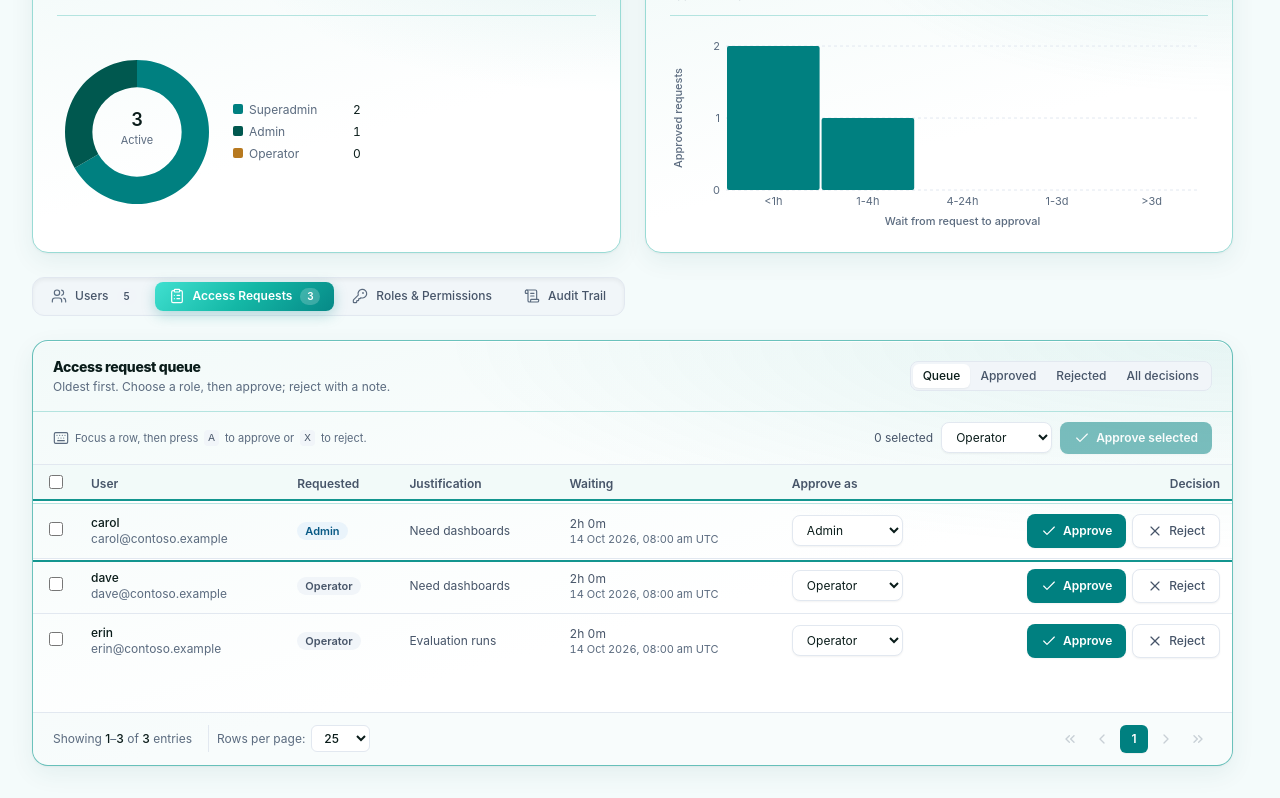
Test case: Access Requests tab › keyboard: `a` approves the focused row with its role, `x` opens reject with a required note
(page scrolled)
Press a in the row with test id "request-row-r-1", box [33, 503, 1232, 558]
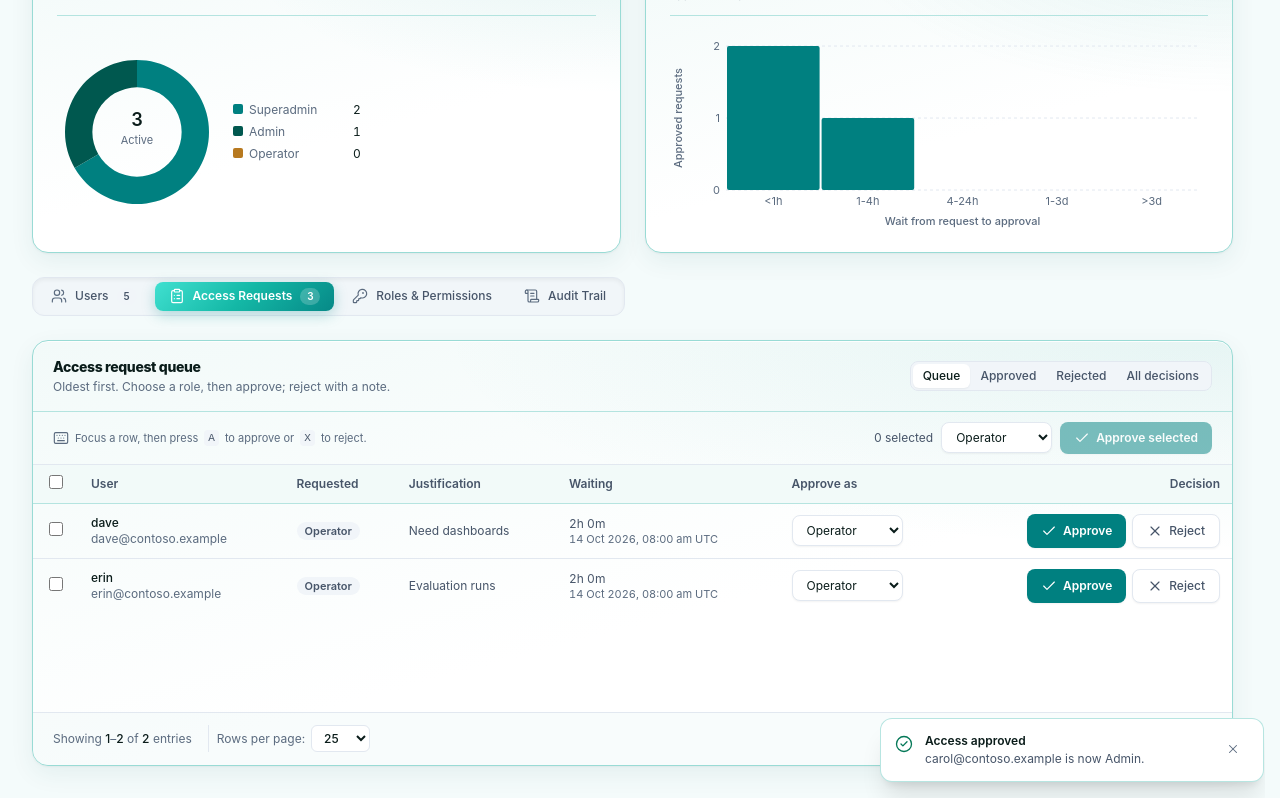
// Typing in the role select must not trigger shortcuts.
Press x in the dropdown named "Role for dave@contoso.example", box [792, 515, 902, 546]
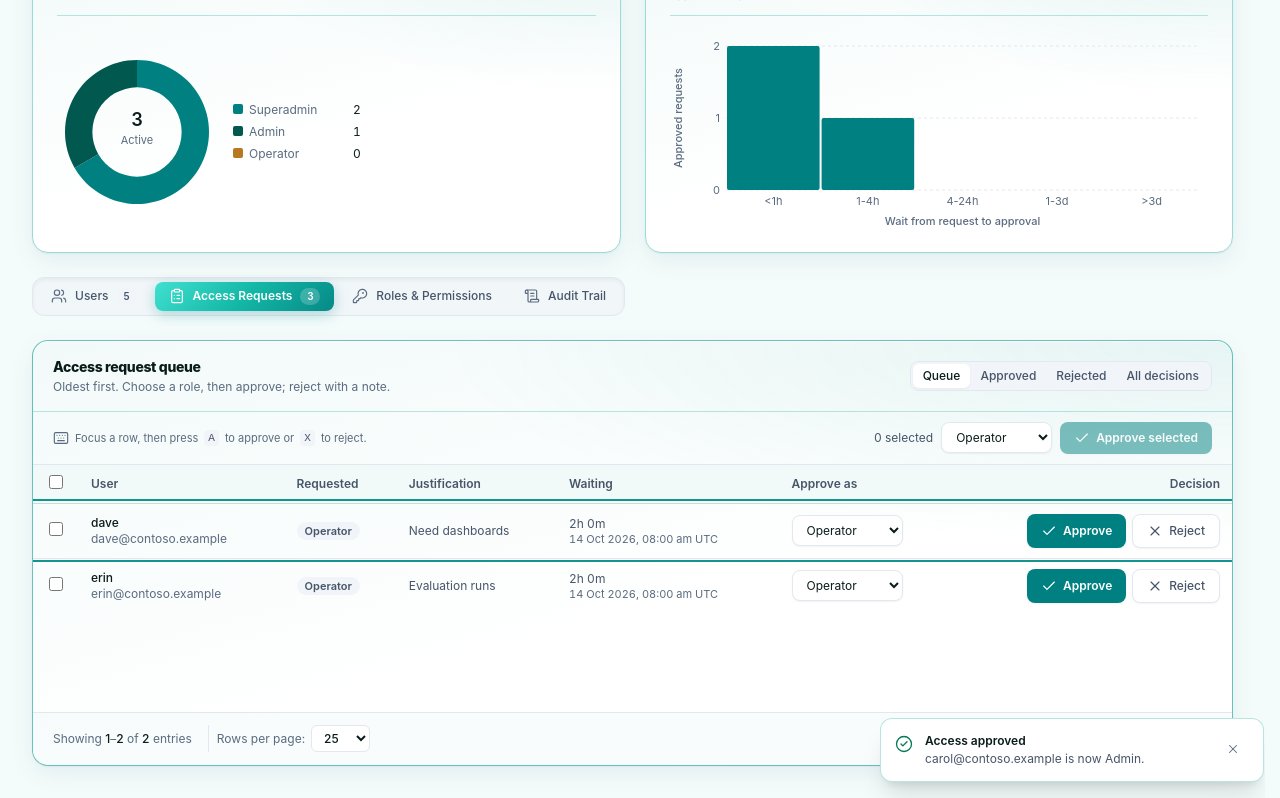
expect the dialog "Reject access request" is not shown: met
Press x in the row with test id "request-row-r-2", box [33, 503, 1232, 558]
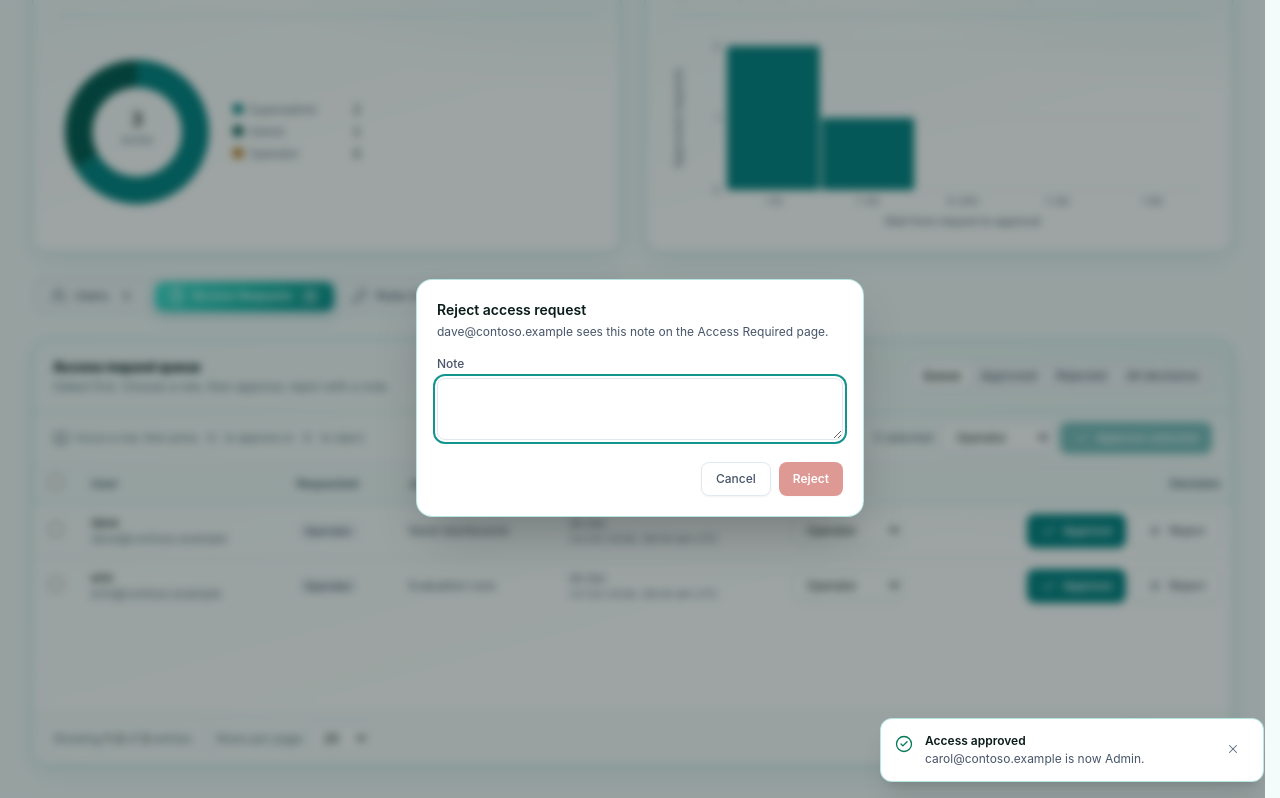
expect the button "Reject" is disabled: met, box [779, 462, 843, 496]
Type "Not on the project" into the text box labelled "Note" at (640, 409), box [437, 378, 843, 440]
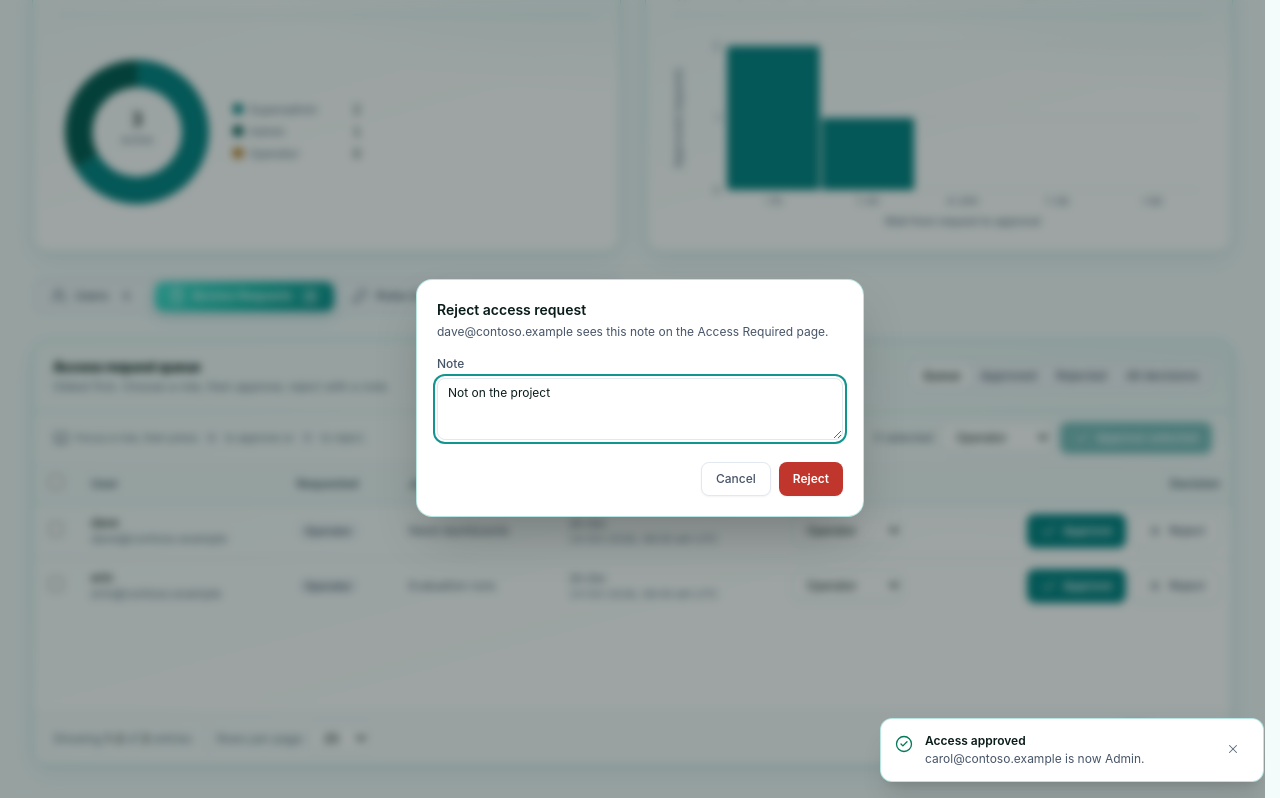
Click the button "Reject" at (811, 479), box [779, 462, 843, 496]
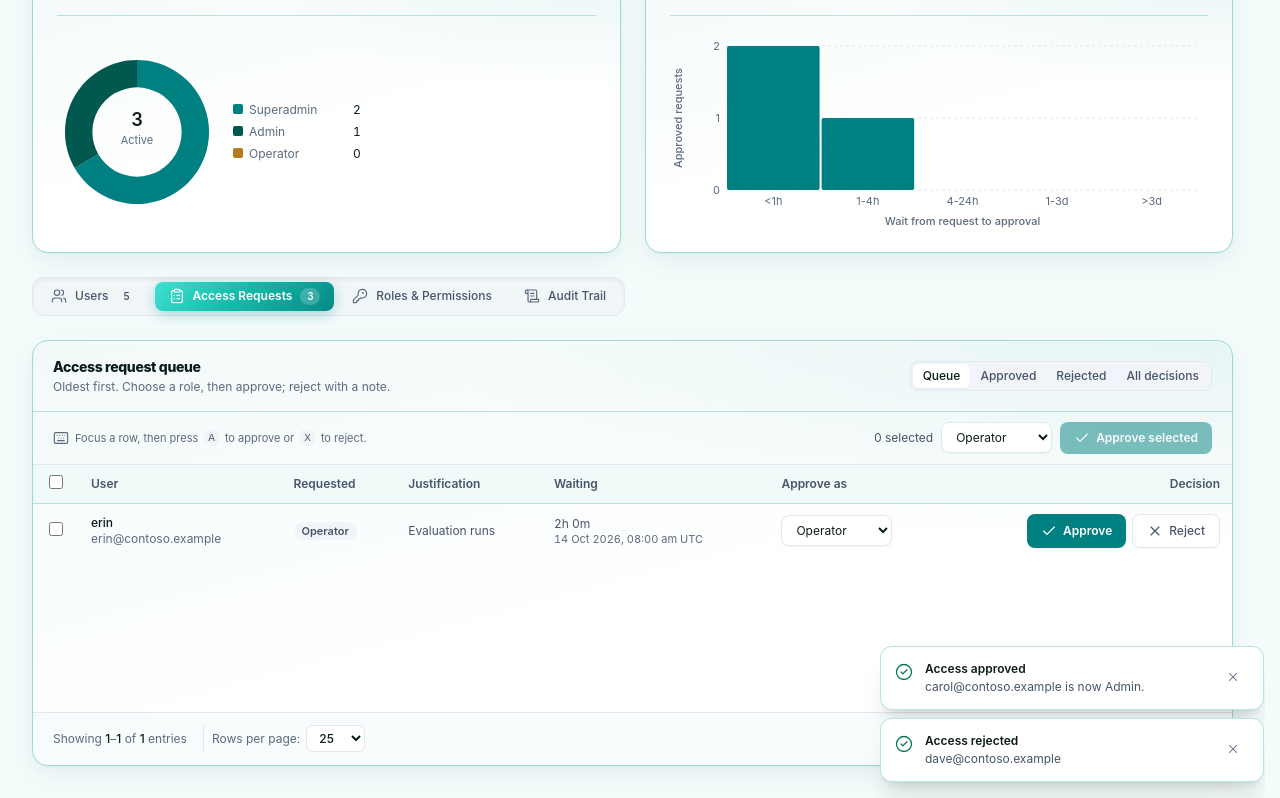
expect the row with test id "request-row-r-2" is gone: met
